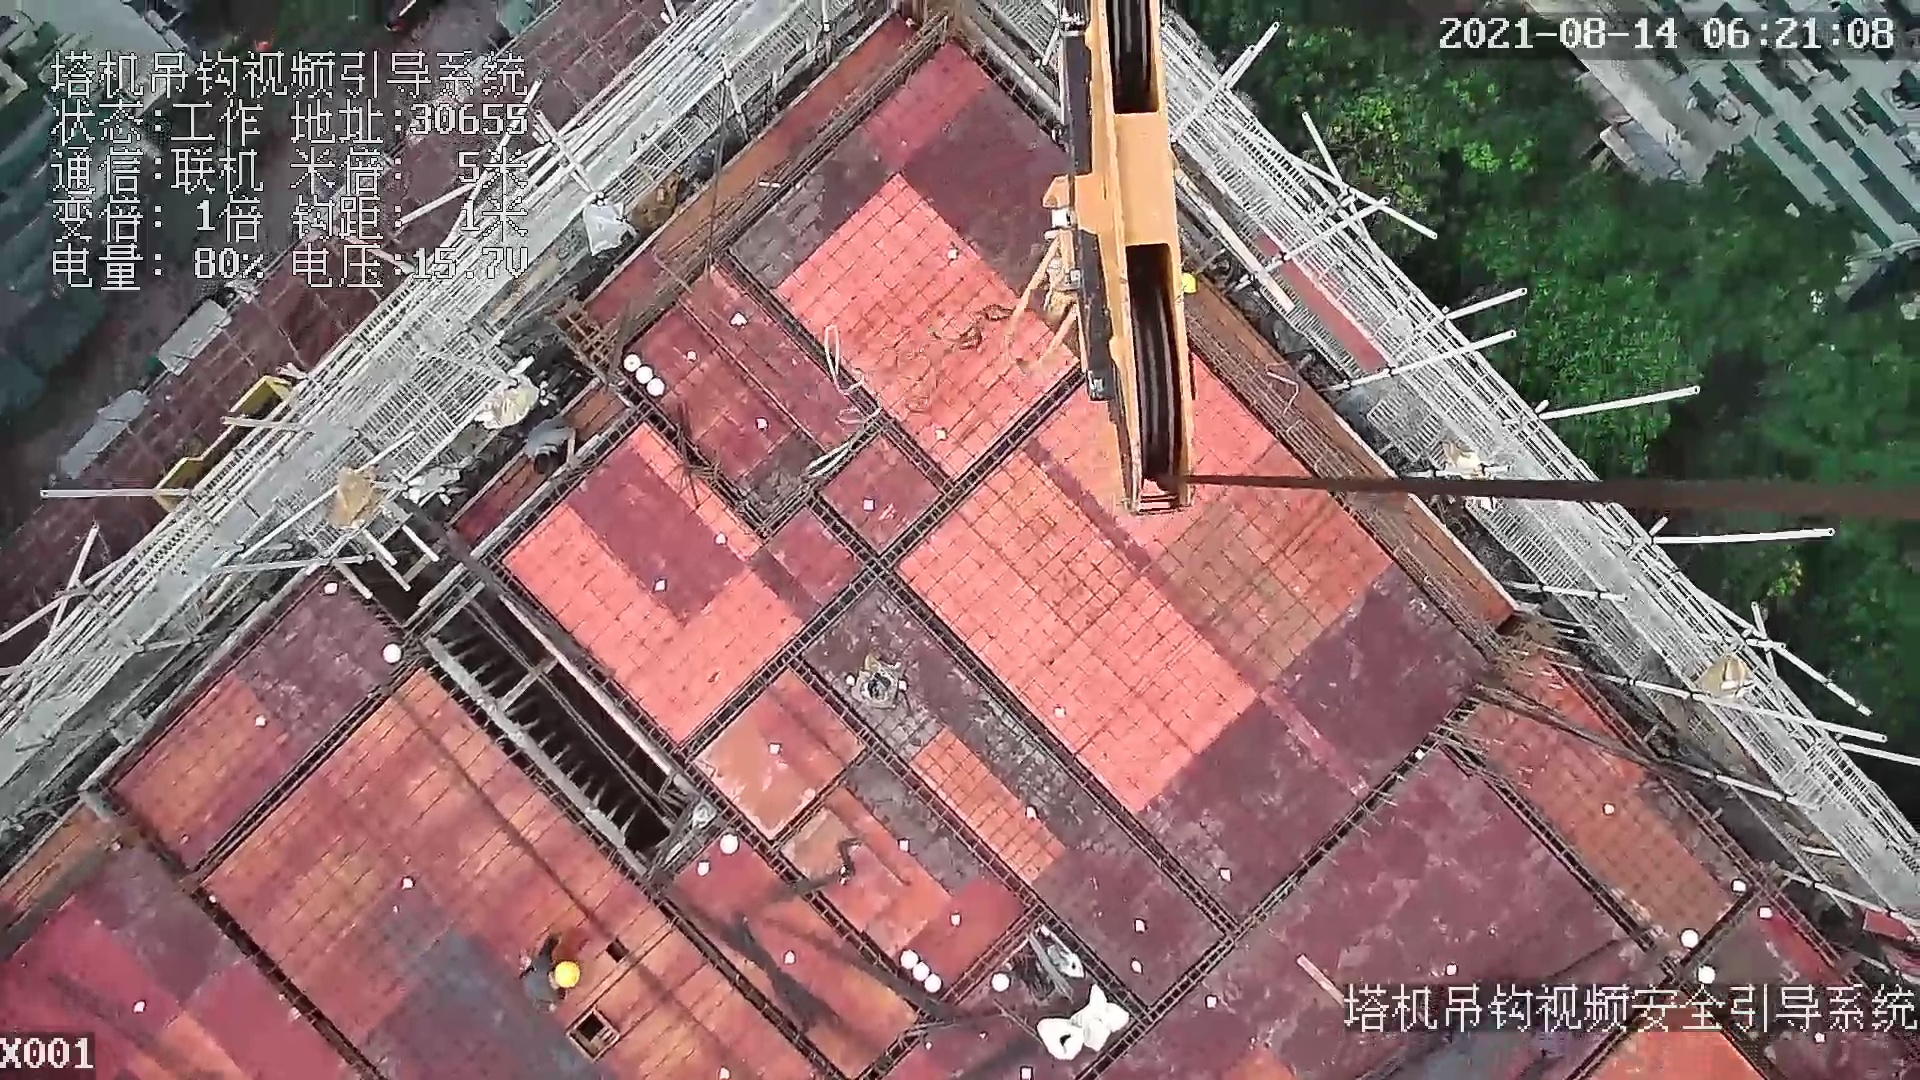helmet: (546, 940, 591, 994)
hook: (1059, 1, 1201, 518)
person: (518, 934, 580, 1013), (521, 419, 576, 474)
